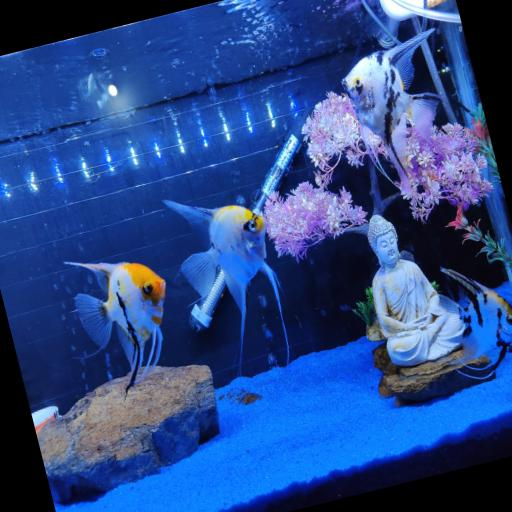Fish: (164, 200, 289, 374), (342, 29, 440, 192), (65, 262, 165, 392), (440, 268, 511, 371)
